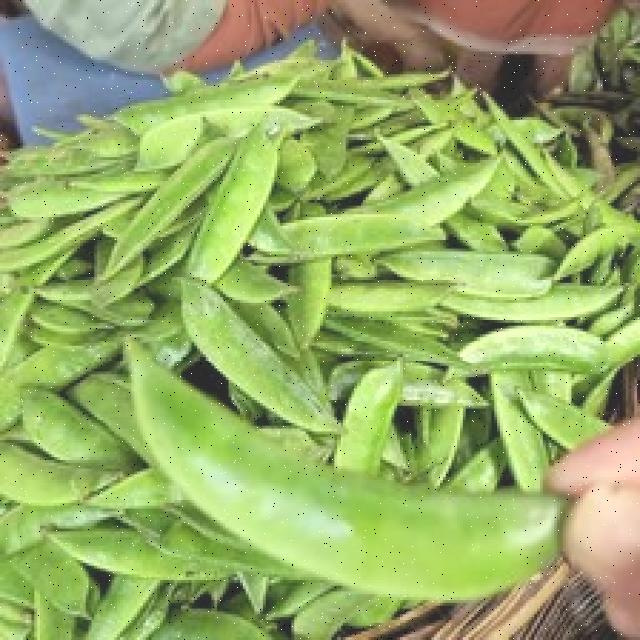Beans: (109, 325, 610, 608), (226, 118, 514, 265), (0, 110, 189, 268)
